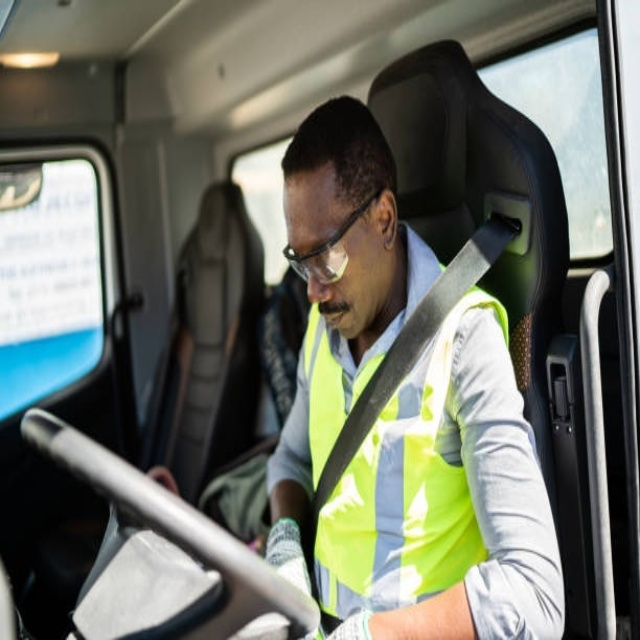Gafas: (283, 189, 384, 285)
Guantes: (261, 511, 326, 635)
Sin_mascara: (312, 290, 364, 342)
